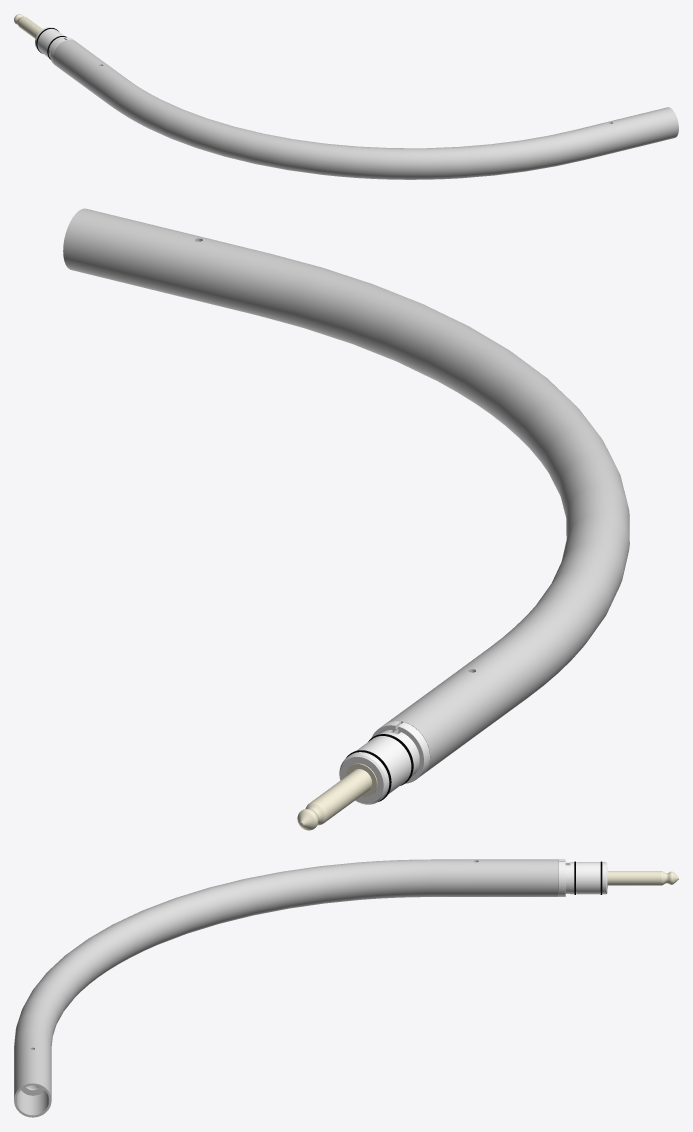
3 renders of one model, top to bottom at view 1: azimuth 30°, elevation 25°; view 2: azimuth 150°, elevation 25°; view 3: azimuth 270°, elevation 25°, orthographic. The views are drawn at different scales.
Parts seen in each view (by area): view 1: Body1.091; view 2: Body1.091; view 3: Body1.091.
Boxes of the visible parts, x1,y1,x2,y2 form: Body1.091: [14, 14, 678, 179]; Body1.091: [63, 208, 629, 830]; Body1.091: [14, 859, 678, 1117].
Bounding box in the file's own units: 2.31 × 0.16 × 2.83.
